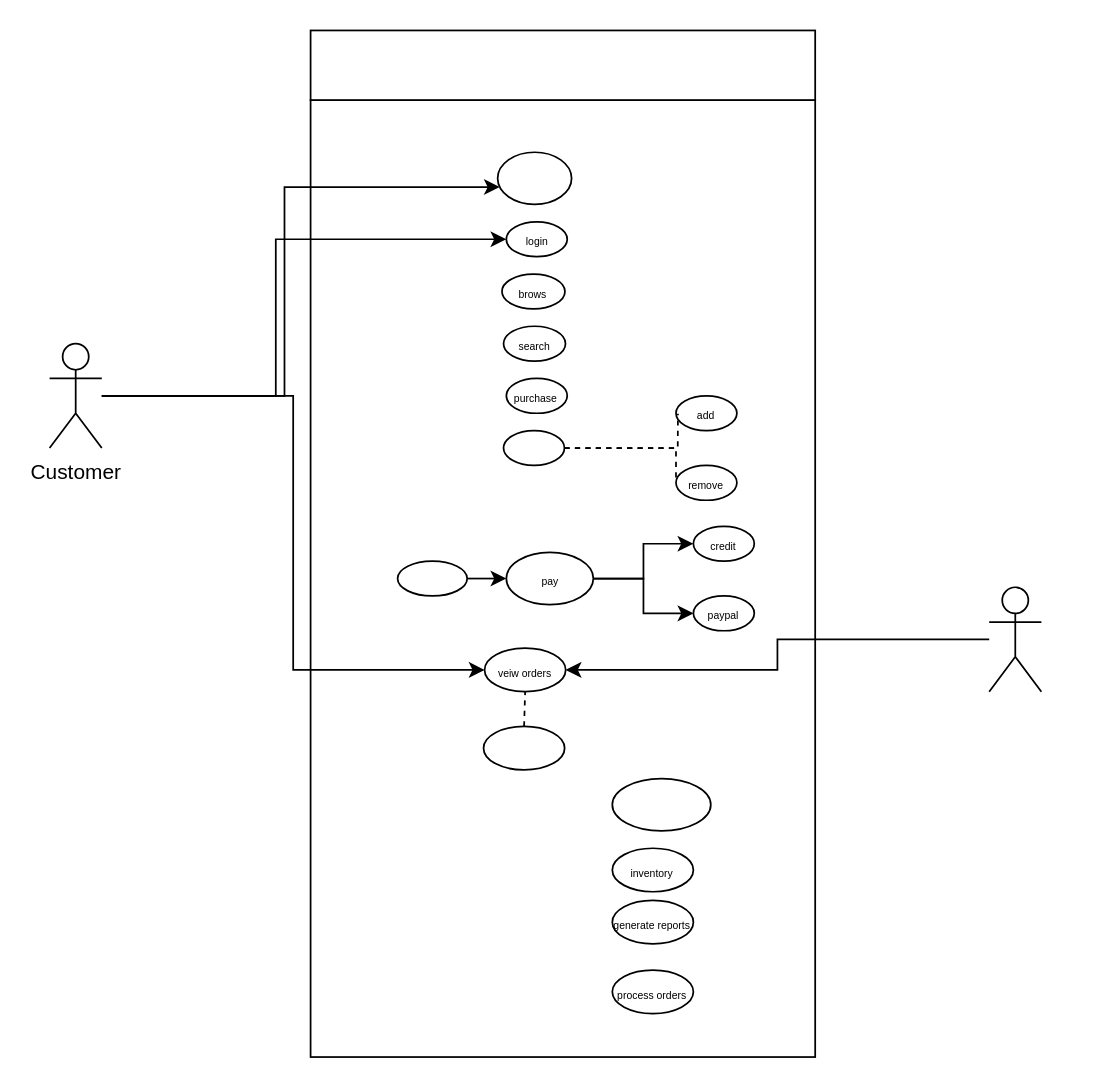
The diagram is 1107 pixels wide and 1088 high, and some of its shapes have lost their labels. Here are the shapes that lost their labels. From the top down, the box of each, then its label:
(309, 29, 815, 100): online shopping system
(496, 151, 572, 204): create account
(502, 429, 564, 465): cart
(396, 559, 467, 596): place order
(987, 586, 1041, 692): Administrator
(482, 725, 565, 770): track orders
(611, 777, 711, 831): manage products
